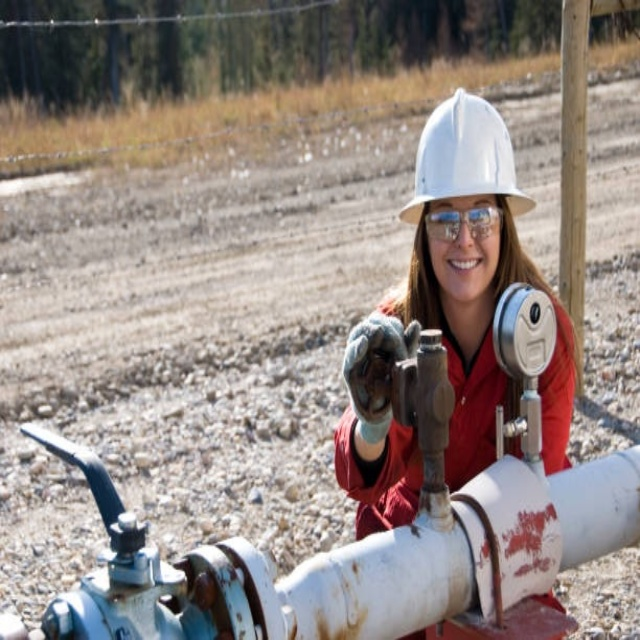Gafas: (424, 205, 504, 243)
Guantes: (341, 311, 413, 440)
Sin_mascara: (442, 251, 486, 289)
